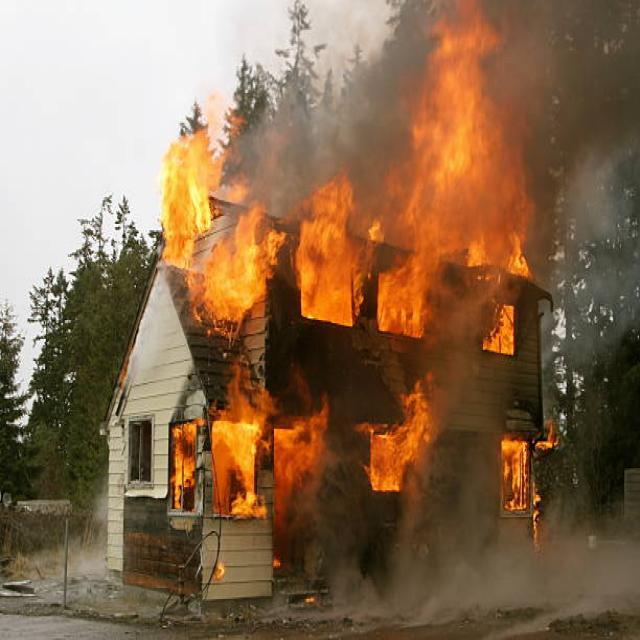Fire: (171, 138, 513, 520), (368, 0, 523, 360)
Smoke: (297, 0, 639, 236)
